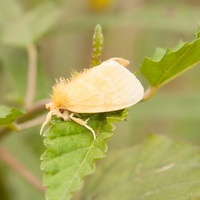insect: (51, 58, 143, 114)
